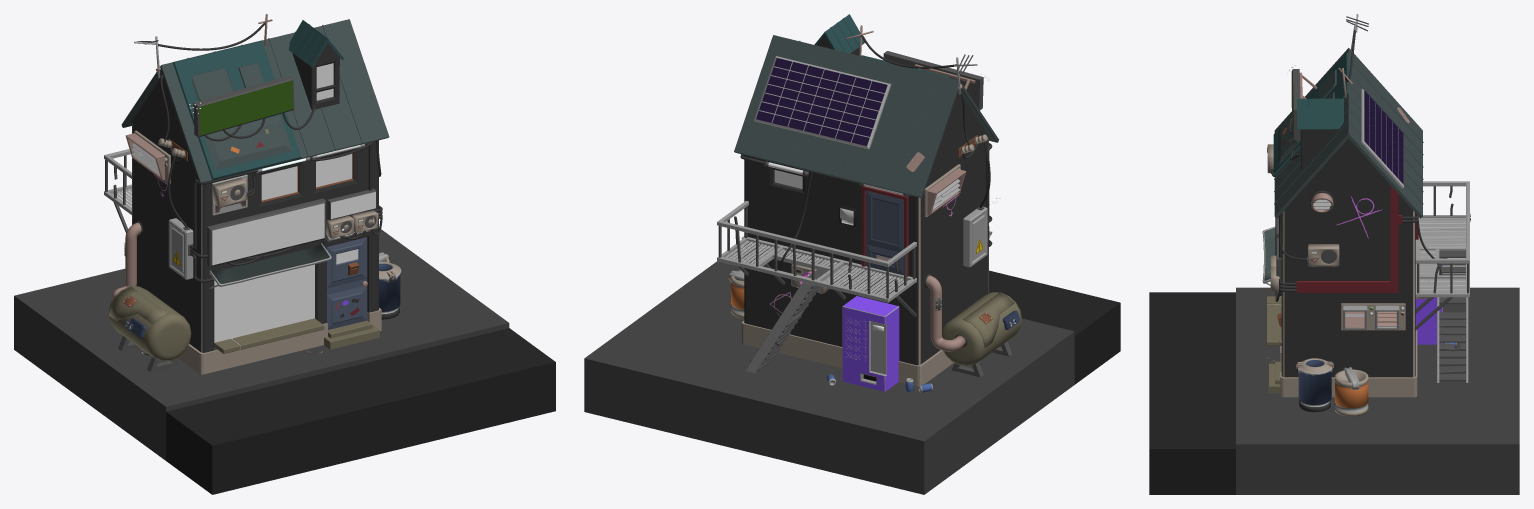
File: House2.fbx
The picture shows the model from 3 angles, left to right: view 1: azimuth 30°, elevation 25°; view 2: azimuth 150°, elevation 25°; view 3: azimuth 270°, elevation 25°; orthographic projection. The views are drawn at different scales.
Parts seen in each view (by area): view 1: Cube.064, NurbsPath.029; view 2: Cube.064, NurbsPath.029; view 3: Cube.064, NurbsPath.029.
Part boxes in pixels (<box>): Cube.064: <box>14,14,555,494</box>; NurbsPath.029: <box>158,22,382,265</box>; Cube.064: <box>584,14,1120,494</box>; NurbsPath.029: <box>780,35,990,279</box>; Cube.064: <box>1149,14,1519,494</box>; NurbsPath.029: <box>1271,30,1441,301</box>.
Bounding box in the file's own units: 703 × 717 × 703.
